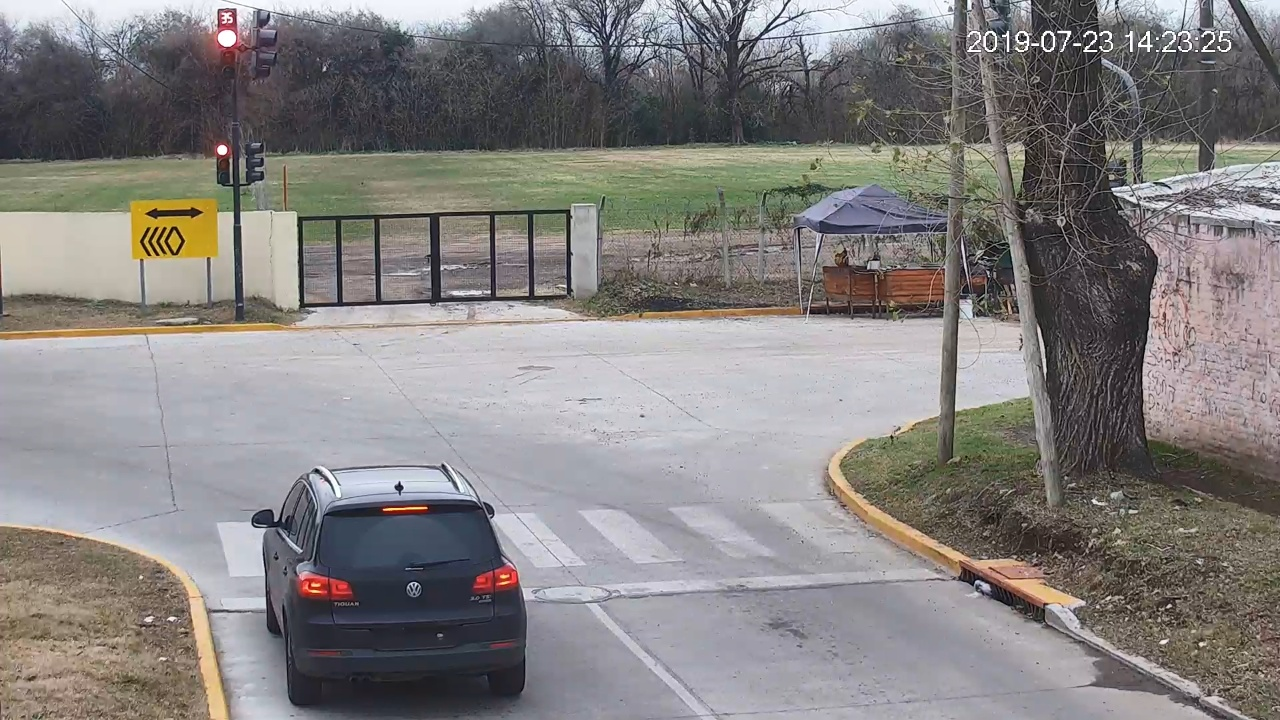car: (251, 463, 527, 704)
traffic light: (218, 30, 238, 77), (216, 143, 230, 183)
